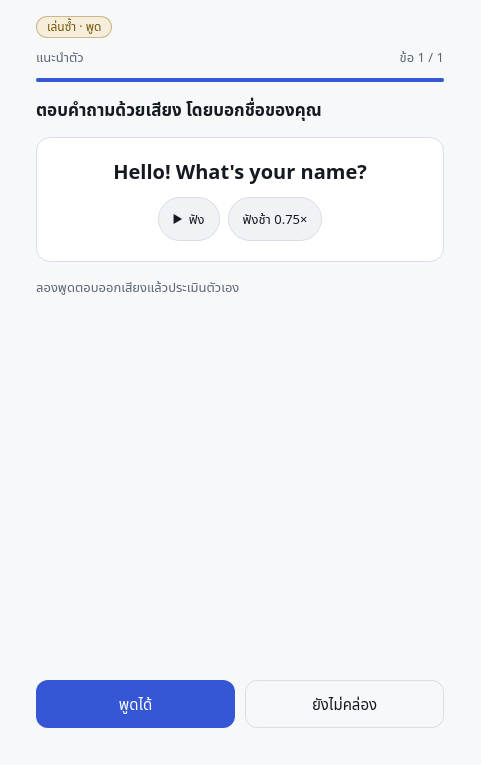
it: LessonPlayer self-rated line in a skill replay › says the section is self-rated when the learner self-rated an answer
This screenshot has width=481, height=765.
Step 1. Click the button "พูดได้" → (136, 704), box [36,680,235,728]
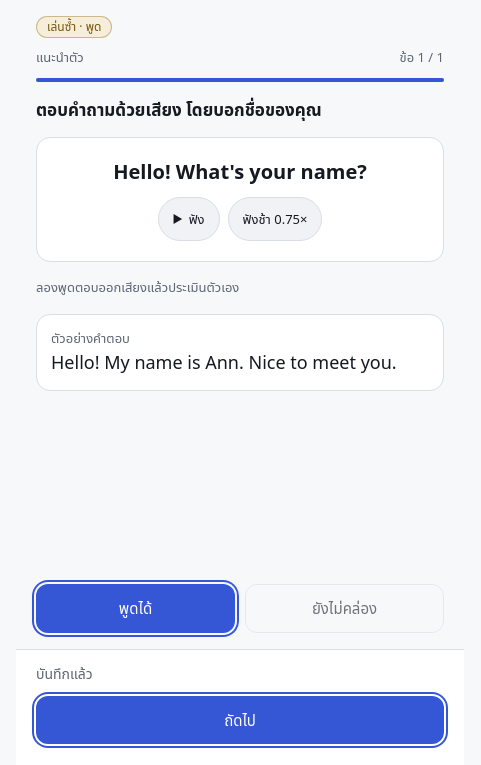
Step 2. Click the button "ถัดไป" → (240, 720), box [36,696,444,744]
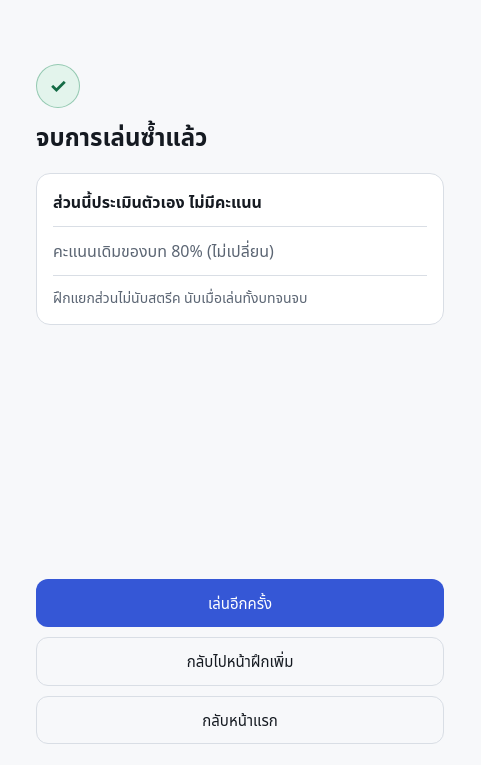
Expected: the heading "จบการเล่นซ้ำแล้ว" is shown, [36,120,207,153]
Expected: the text "ส่วนนี้ประเมินตัวเอง ไม่มีคะแนน" is shown, [53,178,427,227]
